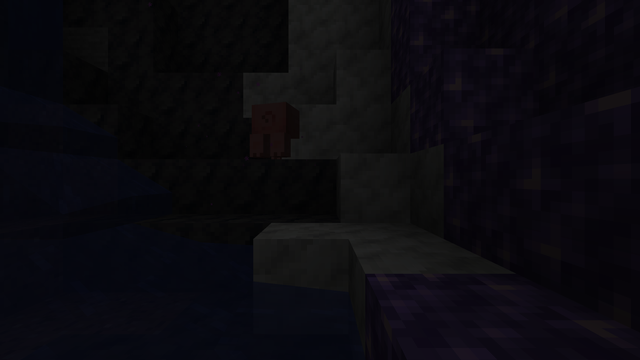cochons: (250, 102, 307, 160)
